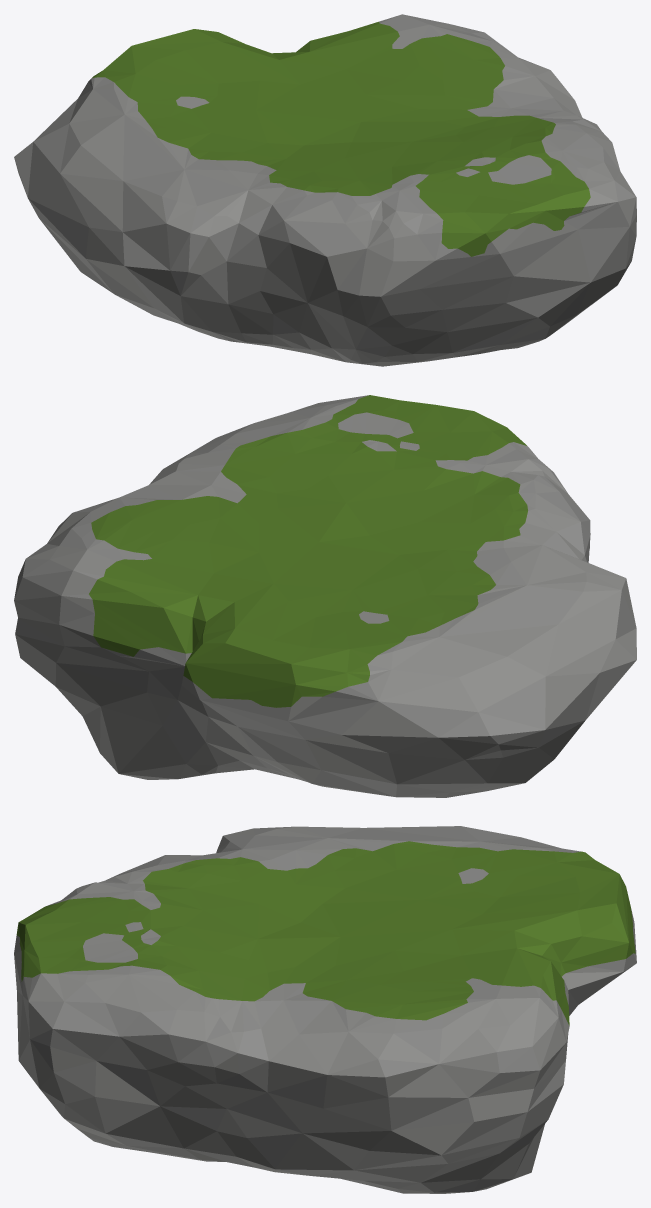
File: Cavern_FloorGrass_Wide_Narrow-02.fbx
3 renders of one model, top to bottom at view 1: azimuth 30°, elevation 25°; view 2: azimuth 150°, elevation 25°; view 3: azimuth 270°, elevation 25°, orthographic. The views are drawn at different scales.
Visible parts, largest first — view 1: Cavern_FloorGrass_Wide_Narrow-02; view 2: Cavern_FloorGrass_Wide_Narrow-02; view 3: Cavern_FloorGrass_Wide_Narrow-02.
Part boxes in pixels (x1,y1,x2,y2): Cavern_FloorGrass_Wide_Narrow-02: (14,14,636,366); Cavern_FloorGrass_Wide_Narrow-02: (14,395,636,797); Cavern_FloorGrass_Wide_Narrow-02: (14,826,636,1193).
Size of the model in its own units: 1353 by 548 by 1376.
1 material, 1 textured.
